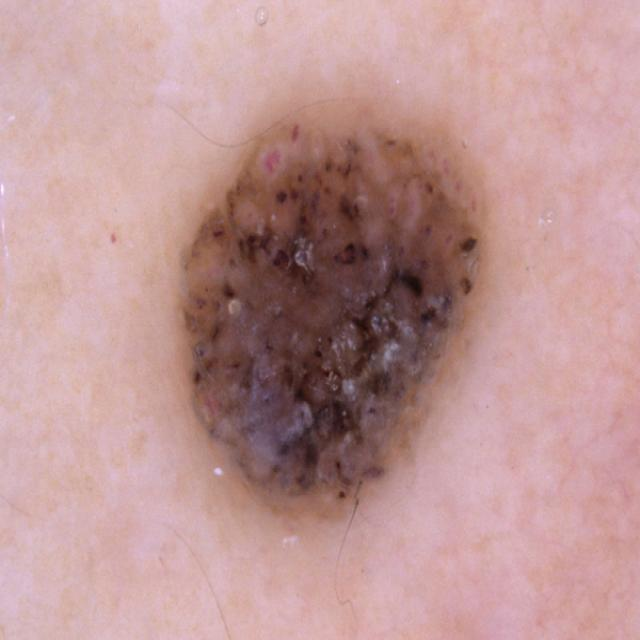Skin-Cancer Pigmented benign keratosis: (102, 25, 614, 605)
